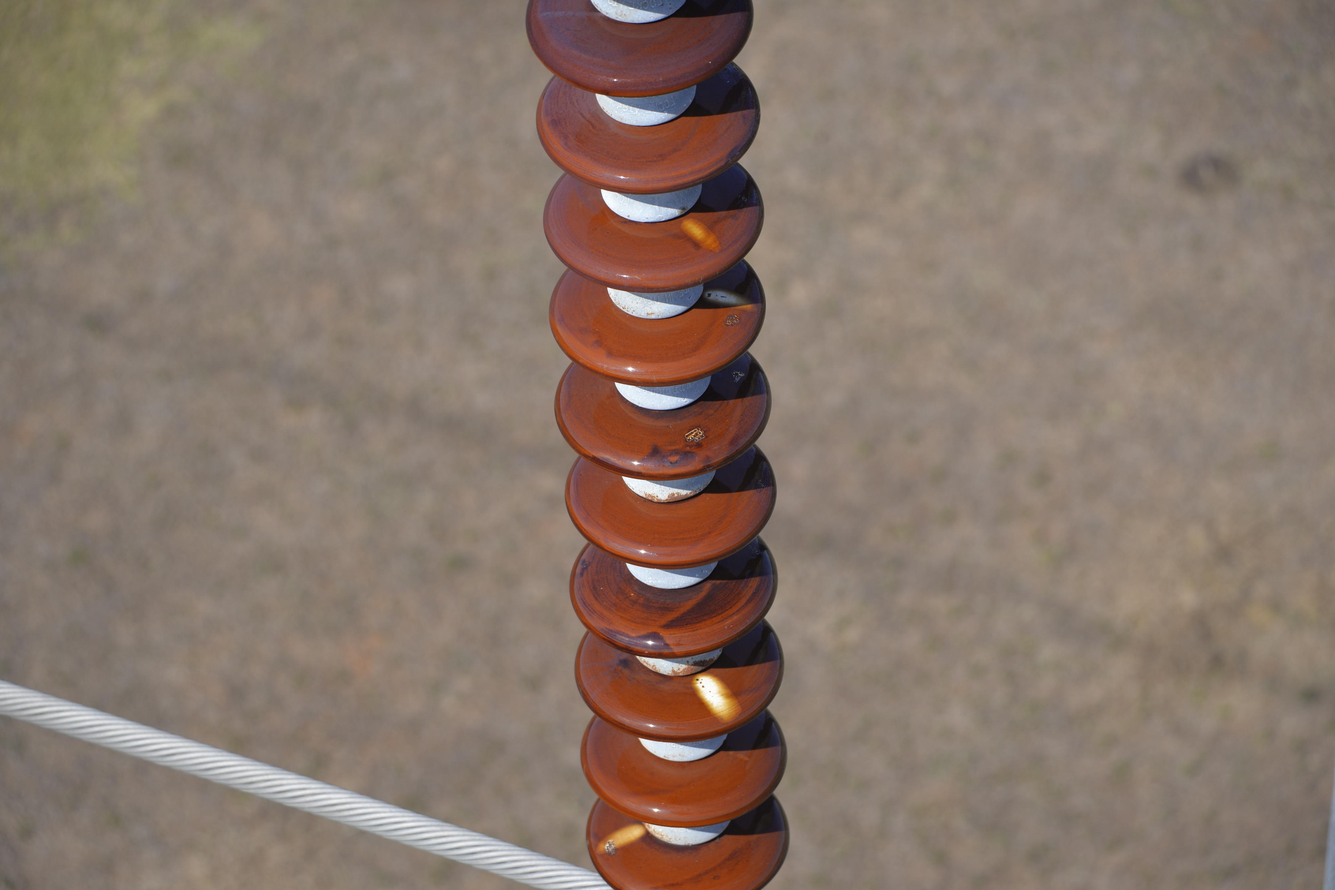Flashover: (685, 667, 745, 724), (704, 283, 760, 319), (596, 823, 648, 860), (679, 216, 725, 255)
insulator: (524, 0, 789, 889)
